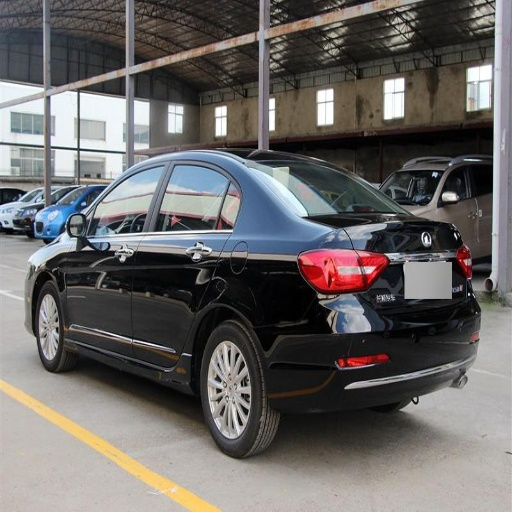back_bumper: (263, 290, 481, 410)
back_glass: (251, 160, 389, 221)
back_left_door: (133, 160, 237, 366)
